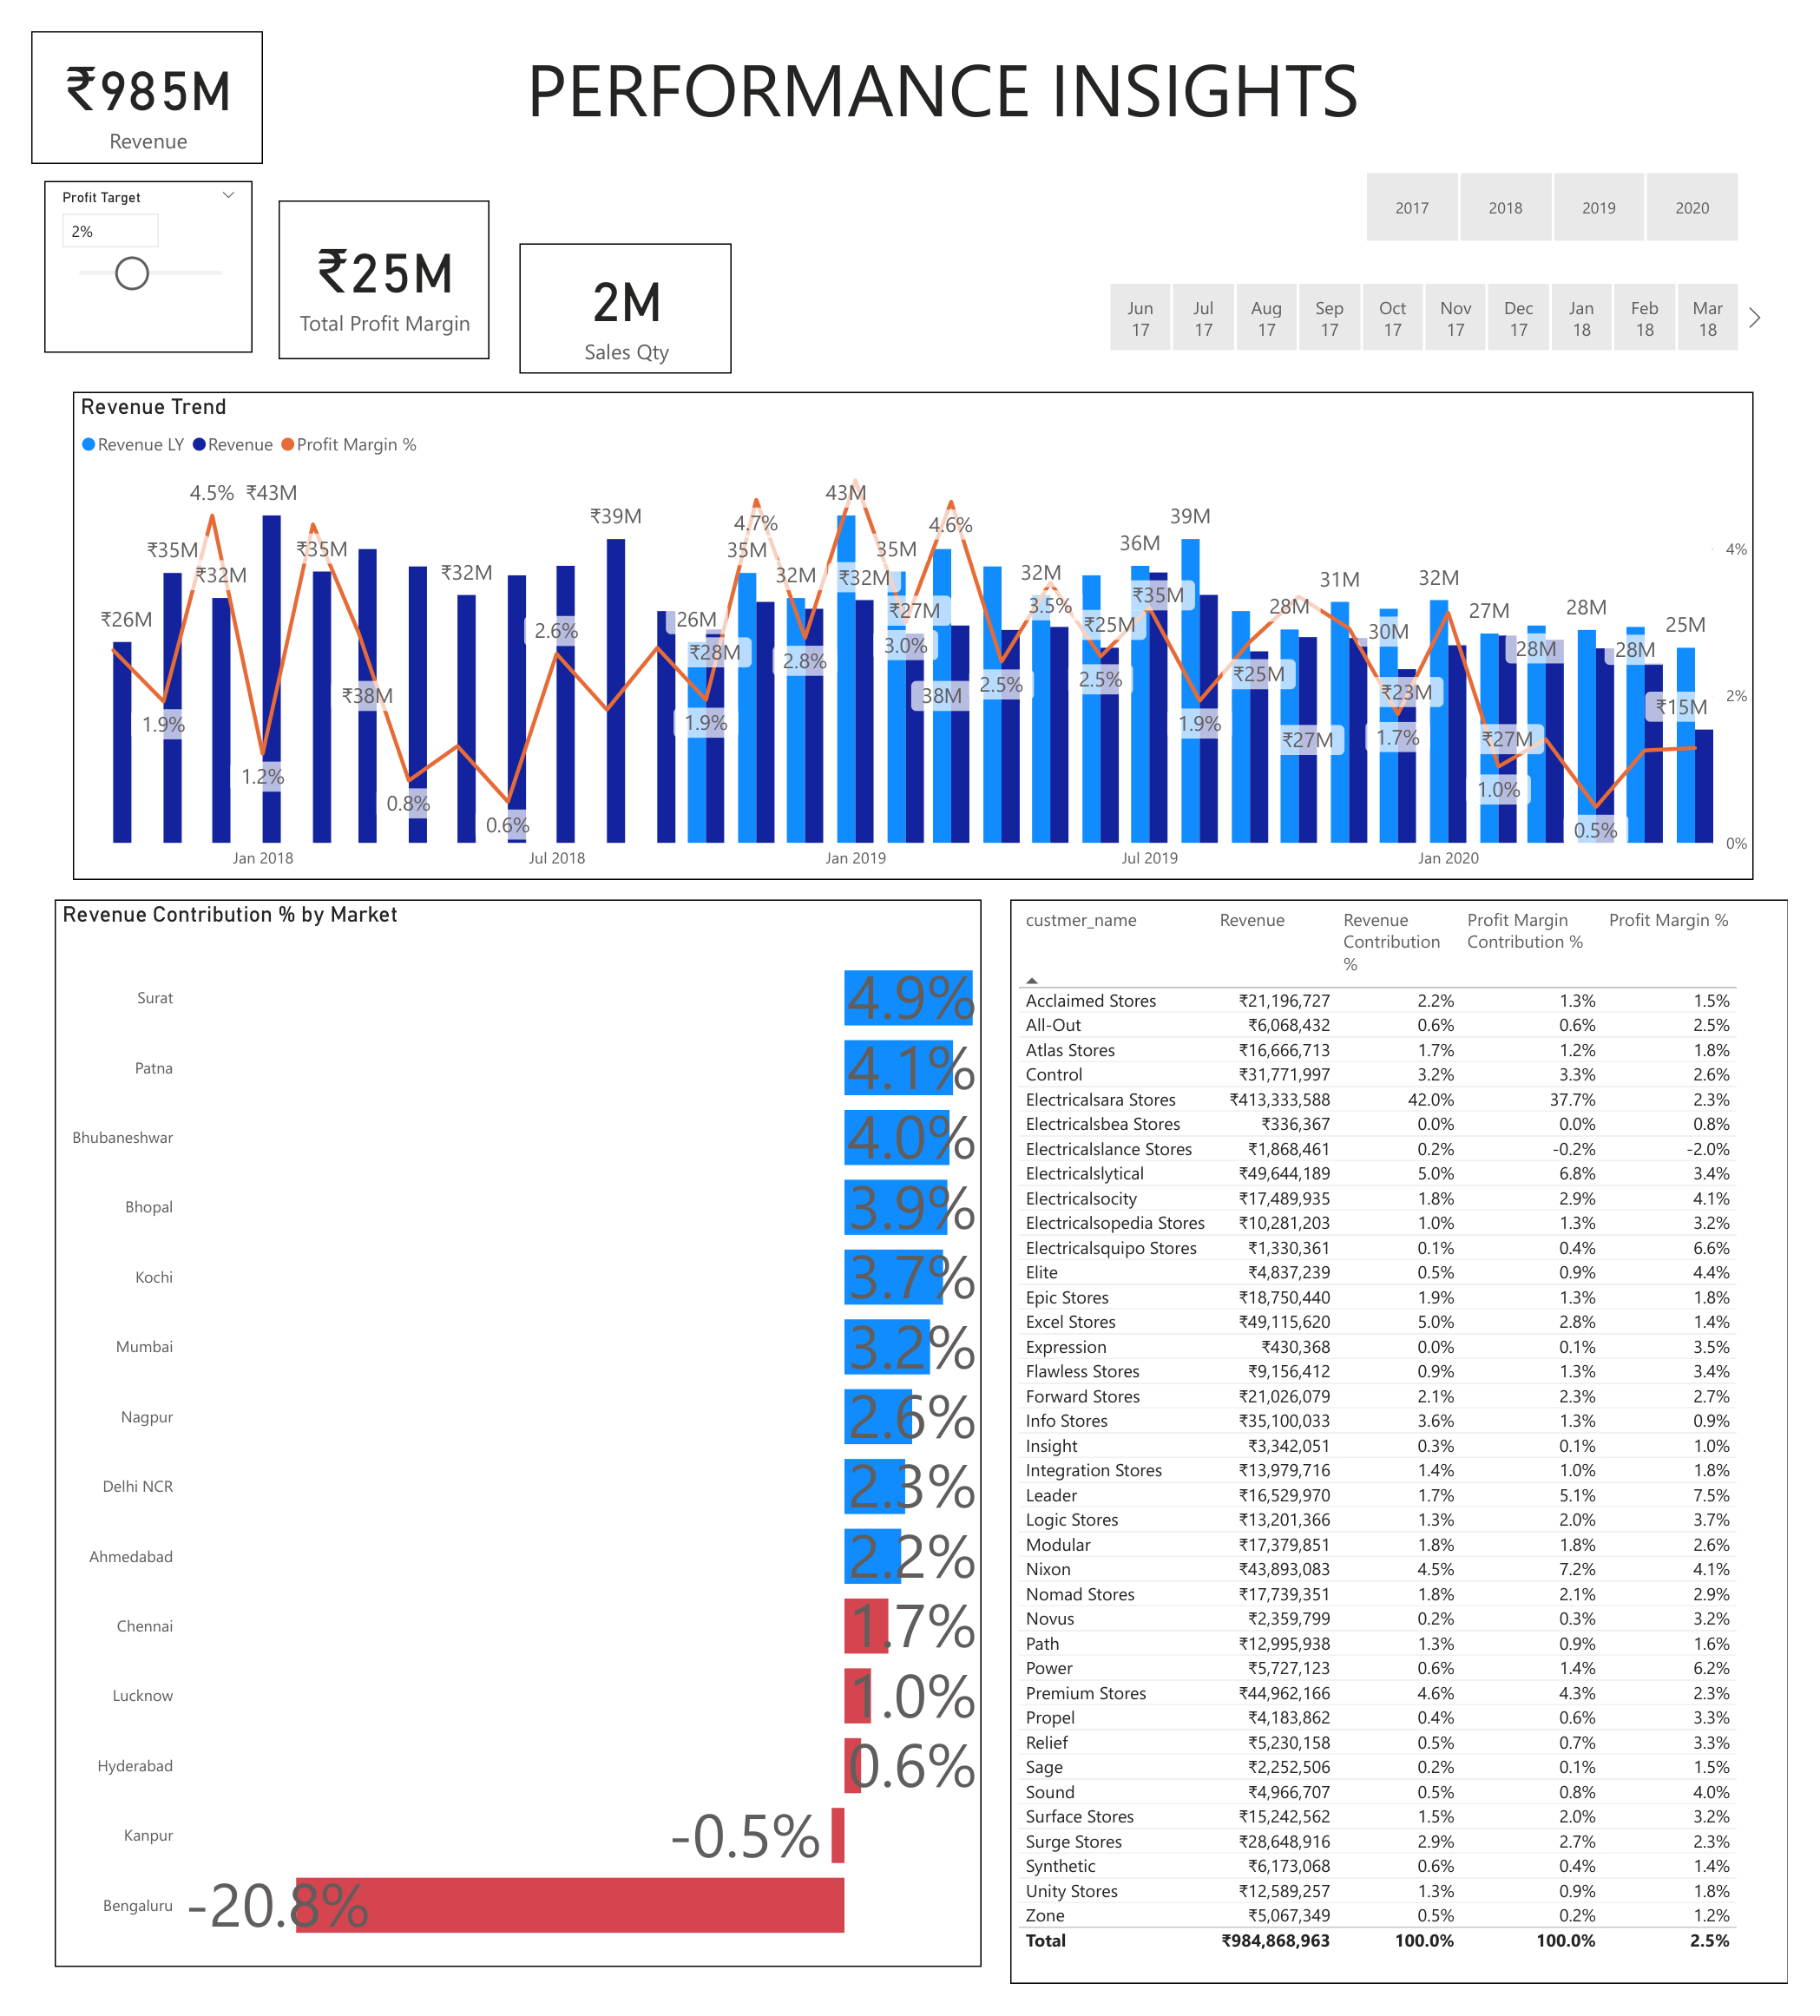

The dashboard page shown, as its layout file describes it:
{"tool":"powerbi","page":{"name":"Performance Insights","canvas":[1350,1500],"ordinal":2},"visuals":[{"type":"card","fields":{"Values":["BaseMeasures (2).Revenue"]},"box":[0,0,178.3,101.7],"z":0},{"type":"card","fields":{"Values":["BaseMeasures (2).Sales Qty"]},"box":[375,163.3,163.3,100],"z":1000},{"type":"slicer","fields":{"Values":["sales date.year"]},"box":[1000,101.7,335,66.7],"z":2000},{"type":"slicer","fields":{"Values":["sales date.cy_date"]},"box":[803.3,186.7,531.7,65],"z":3000},{"type":"tableEx","title":"Top 5 Customers","fields":{"Values":["sales customers.custmer_name","BaseMeasures (2).Revenue","BaseMeasures (2).Revenue Contribution %","BaseMeasures (2).Profit Margin Contribution %","BaseMeasures (2).Profit Margin %"]},"box":[751.7,666.7,598.3,833.3],"z":4000},{"type":"lineClusteredColumnComboChart","title":"Revenue Trend","fields":{"Category":["sales date.cy_date"],"Y":["BaseMeasures (2).Revenue LY","BaseMeasures (2).Revenue"],"Y2":["BaseMeasures (2).Profit Margin %"]},"box":[31.7,276.7,1291.7,375],"z":5000},{"type":"card","fields":{"Values":["BaseMeasures (2).Total Profit Margin"]},"box":[190,130,161.7,121.7],"z":6000},{"type":"barChart","title":"Revenue Contribution % by Market","fields":{"Y":["BaseMeasures (2).Profit Margin %"],"Category":["sales markets.zone","sales markets.markets_name","sales customers.custmer_name","sales products.product_code"]},"box":[18.3,666.7,711.7,820],"z":7000},{"type":"slicer","fields":{"Values":["Profit Target.Profit Target"]},"box":[10,115,160,131.7],"z":8000},{"type":"textbox","box":[375,0,676.7,86.7],"z":8001}]}

Visuals, with their boxes in screenshot pixels (x1, y1, x2, y2), scaled from the page's 1350x1500 canvas onto the 1820x2016 screenshot:
card - BaseMeasures (2).Revenue: [x1=0, y1=0, x2=240, y2=136]
card - BaseMeasures (2).Sales Qty: [x1=505, y1=220, x2=726, y2=354]
slicer - sales date.year: [x1=1348, y1=136, x2=1800, y2=227]
slicer - sales date.cy_date: [x1=1083, y1=251, x2=1800, y2=338]
"Top 5 Customers" tableEx: [x1=1014, y1=896, x2=1819, y2=2015]
"Revenue Trend" lineClusteredColumnComboChart: [x1=43, y1=372, x2=1784, y2=876]
card - BaseMeasures (2).Total Profit Margin: [x1=256, y1=174, x2=474, y2=338]
"Revenue Contribution % by Market" barChart: [x1=24, y1=896, x2=984, y2=1998]
slicer - Profit Target.Profit Target: [x1=14, y1=154, x2=229, y2=332]
textbox: [x1=505, y1=0, x2=1418, y2=116]
